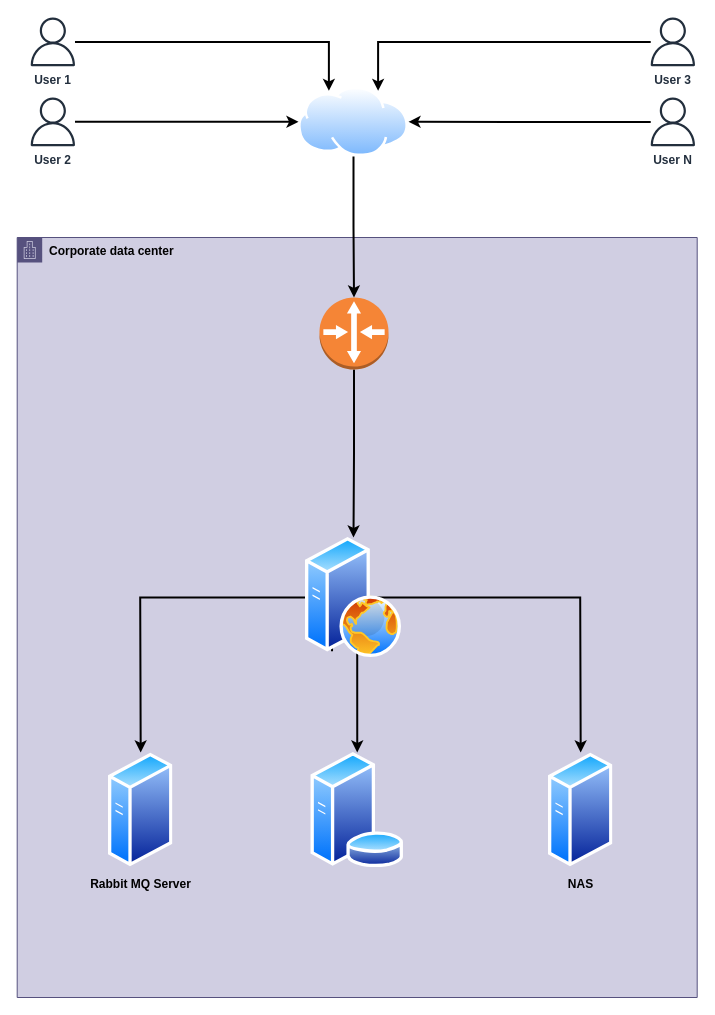
Image size: 715x1015. Some labels were removed from this diagram. Here are the shapes that lost their labels. From the top down, the centre of each, then its label:
(353,333): Roteador de Borda
(353,597): Web Server
(357,809): DataBase Server
